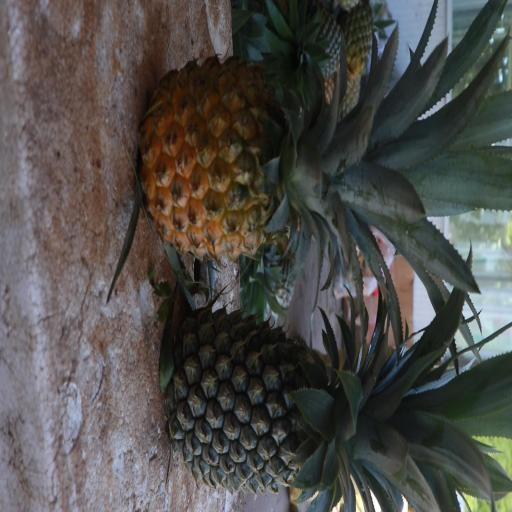Pineapple - v8 v1: (143, 68, 455, 253)
